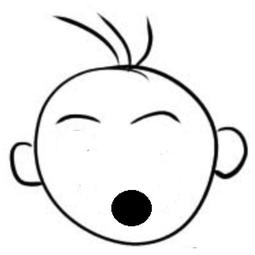ear: (212, 122, 250, 181), (7, 140, 43, 191)
eyebrow: (126, 106, 185, 126), (51, 112, 106, 129)
open_mouth: (108, 190, 156, 228)
